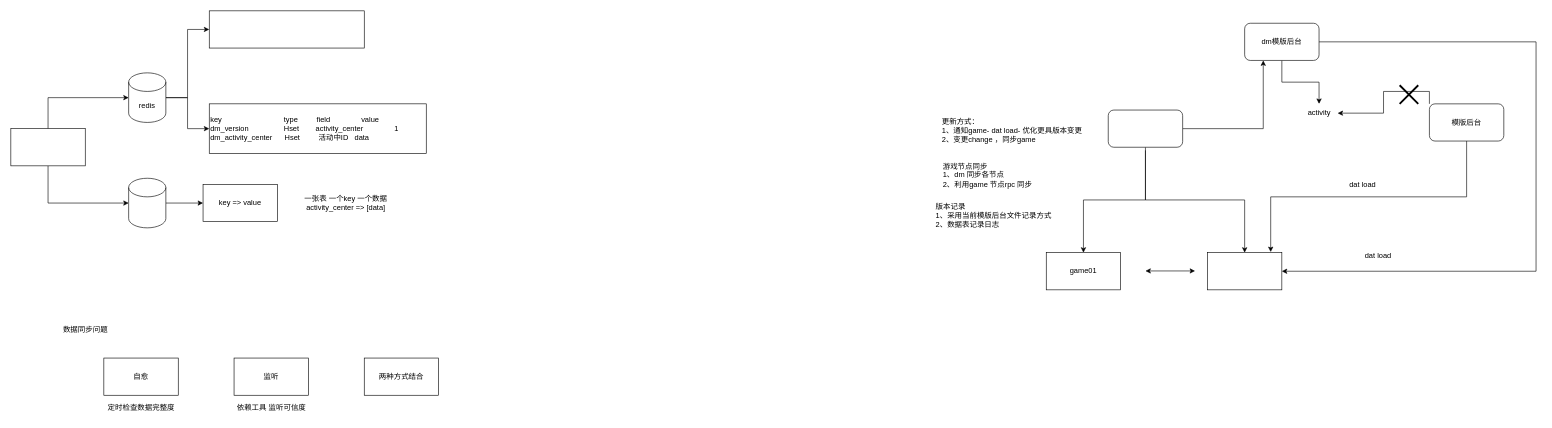
This 1552x428 diagram has some shape labels left out. The box of each missing label's shape, as (x1, y1, x2, y2) in pixels:
dm: (1108, 109, 1183, 147)
dmserver 数据同步: (10, 128, 85, 166)
etcd: (128, 178, 166, 228)
game02: (1207, 252, 1282, 290)
key type field value dm_数据 hset 表名 data: (209, 10, 364, 48)
